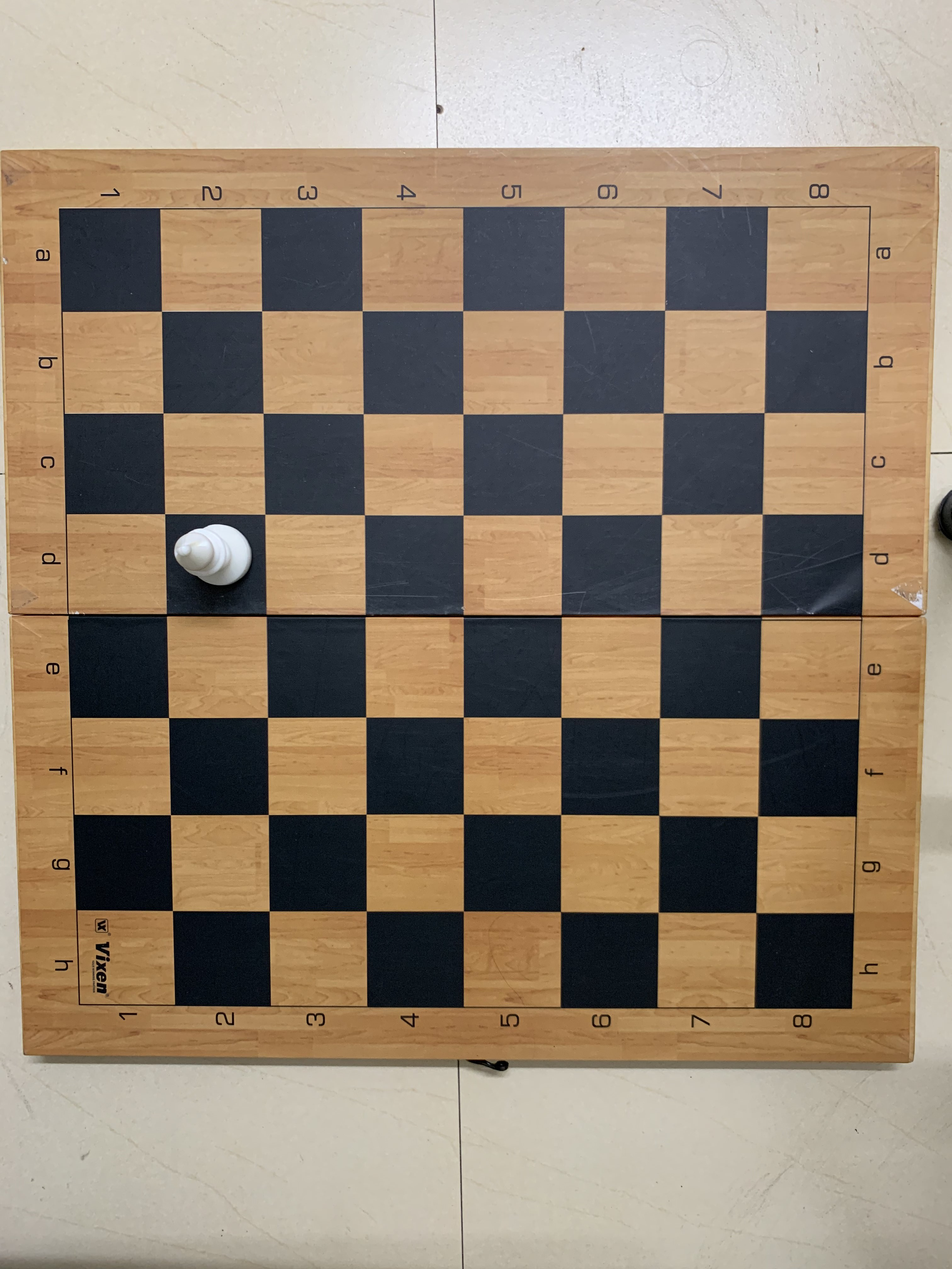white_bishop: (163, 515, 268, 611)
